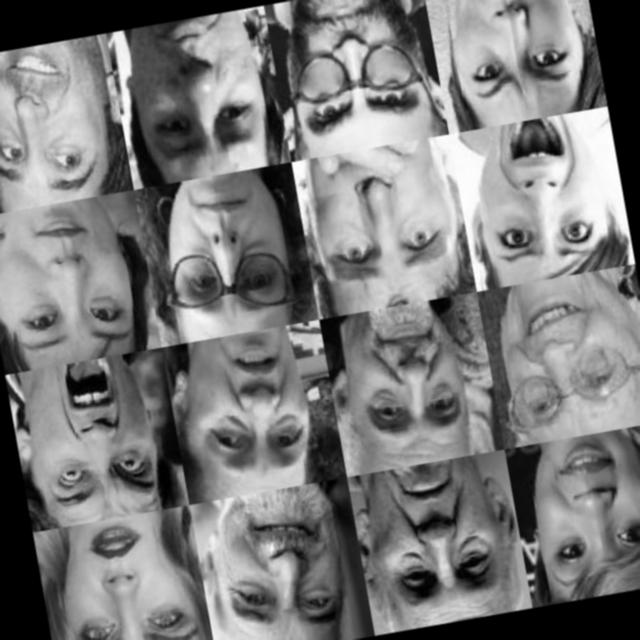angry: (12, 369, 155, 516), (421, 0, 579, 119)
fear: (314, 160, 451, 290), (482, 136, 608, 264)
happy: (495, 290, 639, 438), (211, 495, 340, 640), (523, 434, 640, 589), (0, 46, 94, 200)
neutral: (356, 466, 506, 628), (273, 0, 424, 142), (328, 315, 469, 465), (0, 210, 121, 349), (54, 530, 200, 640)
sad: (174, 330, 313, 487), (152, 188, 290, 332), (139, 22, 267, 164)
